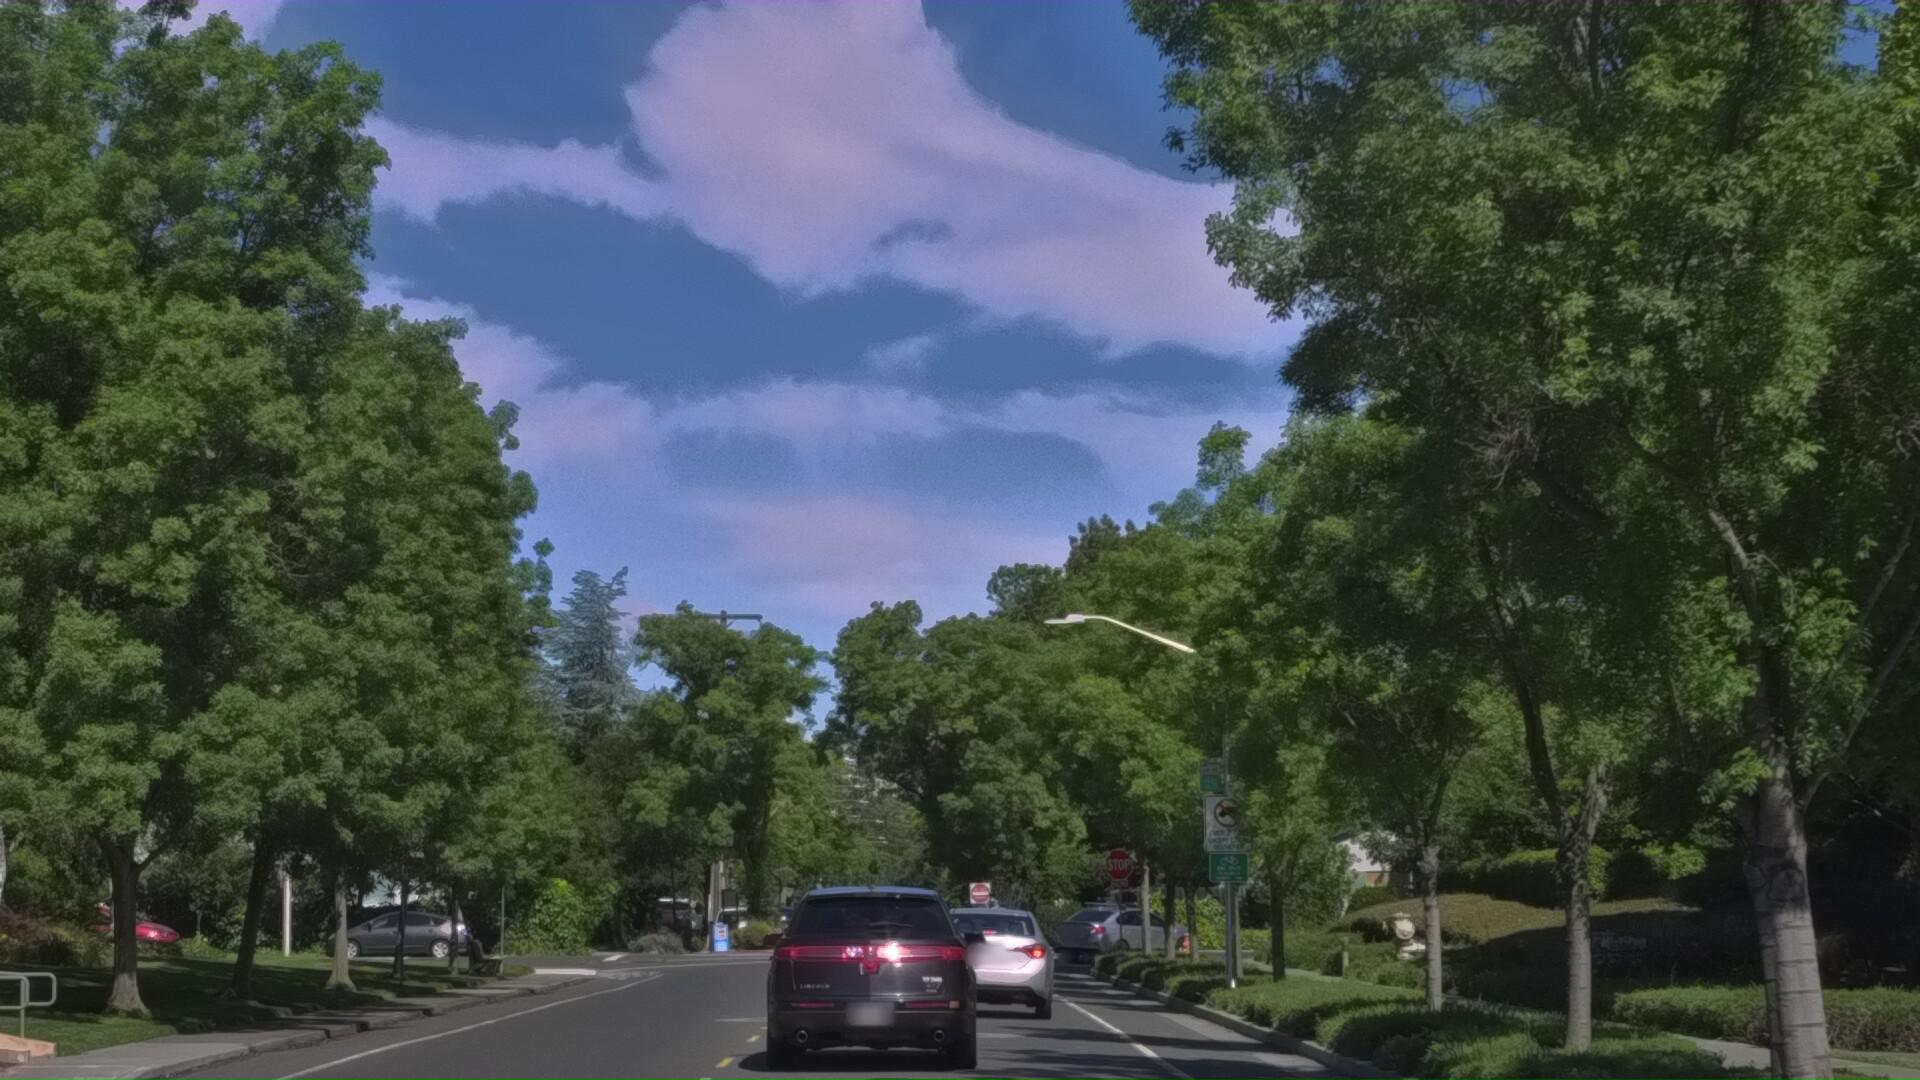car: (756, 971, 993, 1080), (924, 1004, 1072, 1080)
